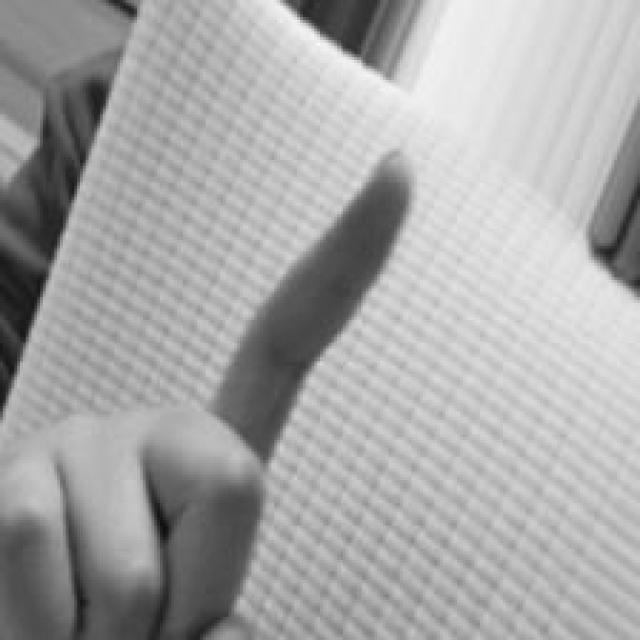I: (0, 144, 417, 640)
